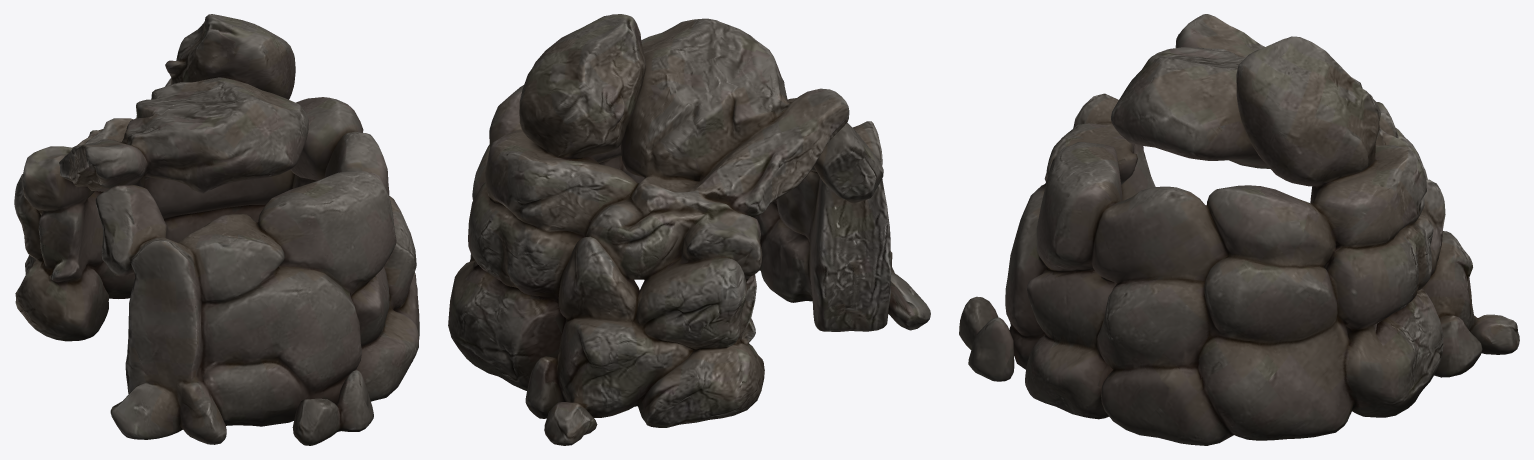
The model's file is stone_hut.glb.
3 views of the same model, side by side, from view 1: azimuth 30°, elevation 25°; view 2: azimuth 150°, elevation 25°; view 3: azimuth 270°, elevation 25° (orthographic). The views are drawn at different scales.
Visible parts, largest first — view 1: Cave; view 2: Cave; view 3: Cave.
Part boxes in pixels (x1,y1,x2,y2): Cave: (14,14,419,445); Cave: (448,14,930,445); Cave: (959,14,1519,445).
Size of the model in its own units: 1.47 by 1.24 by 1.88.
1 material, 1 textured.
